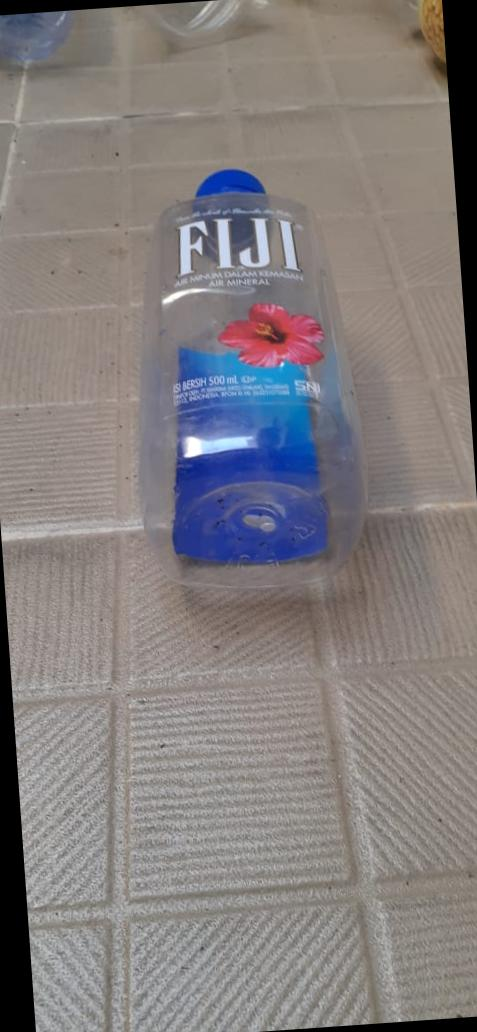Plastik: (118, 160, 378, 596)
